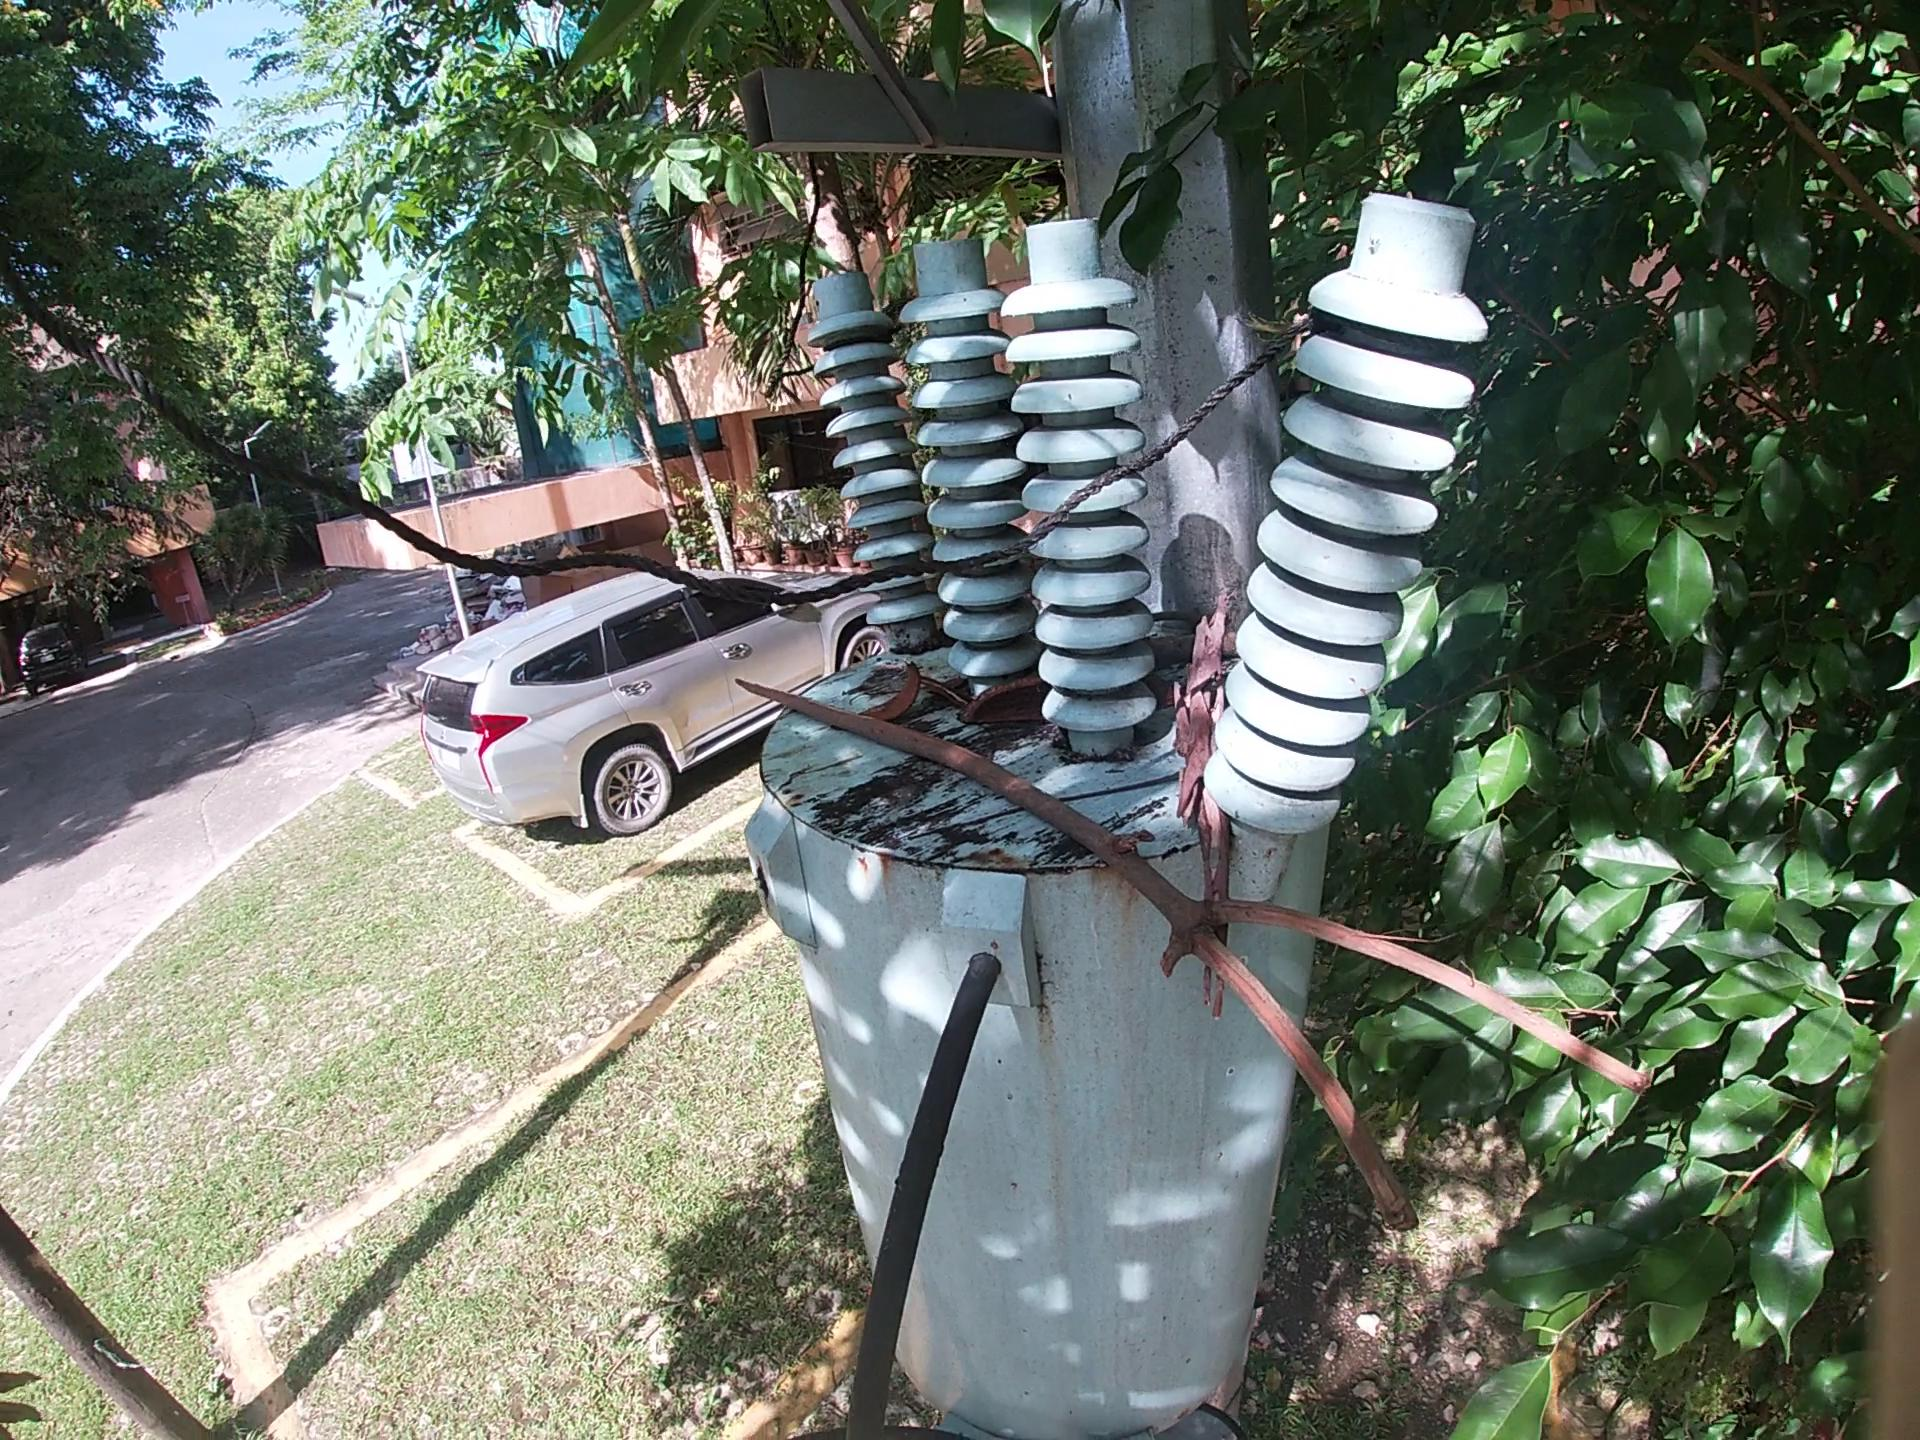mahogany fruit: (955, 678, 1048, 743), (863, 661, 928, 717), (1147, 684, 1185, 725)
tree branch: (732, 679, 1716, 1262), (1178, 579, 1249, 1075), (906, 765, 1187, 843), (1140, 632, 1250, 664), (921, 672, 968, 711)
